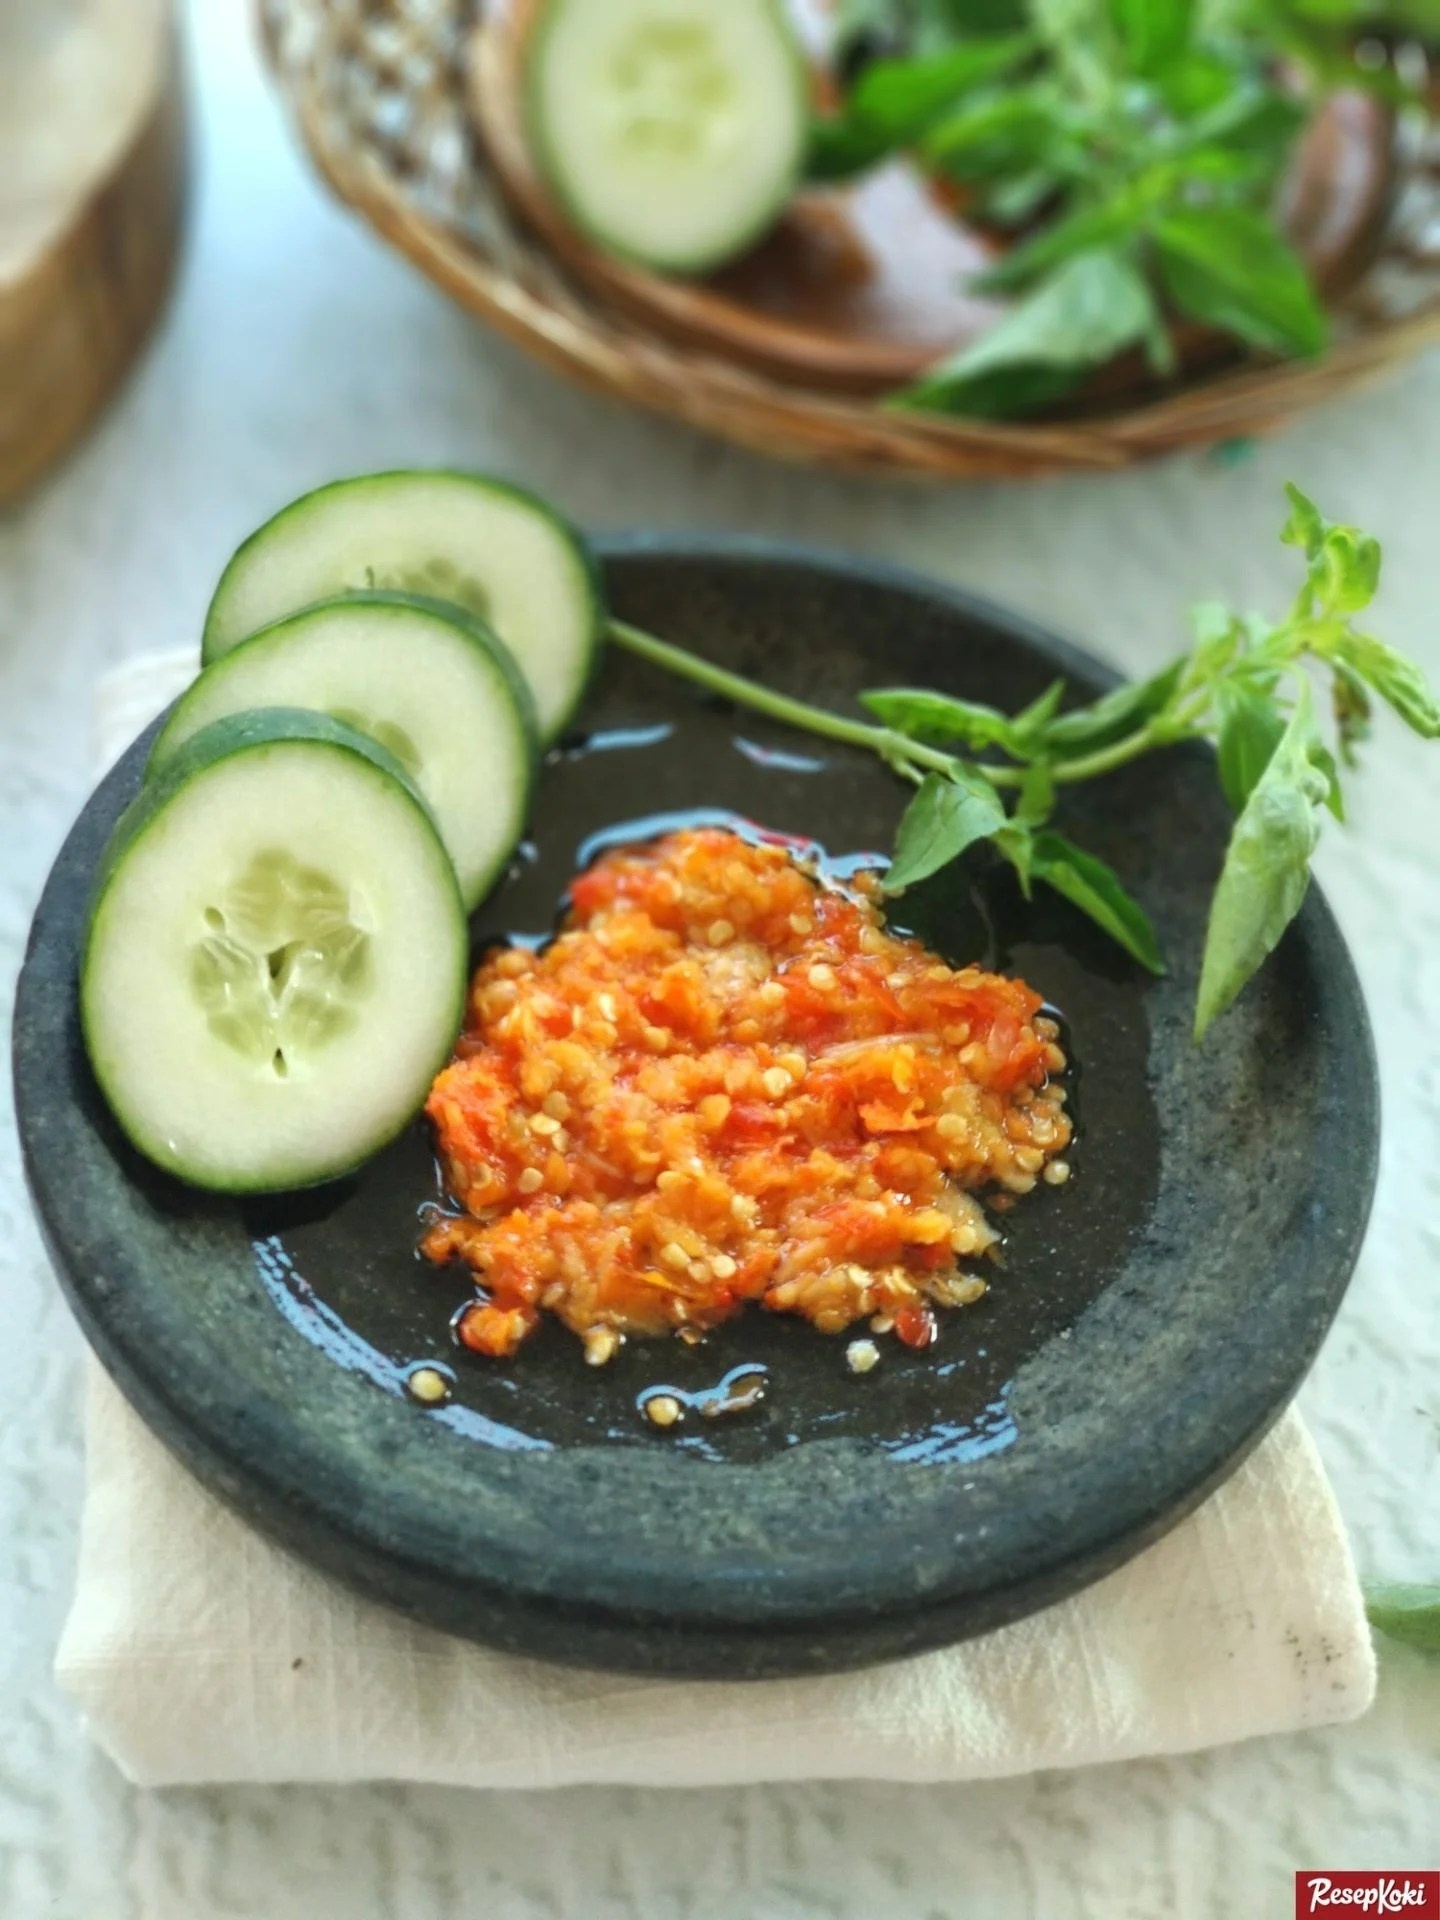sambal: (427, 819, 1082, 1382)
